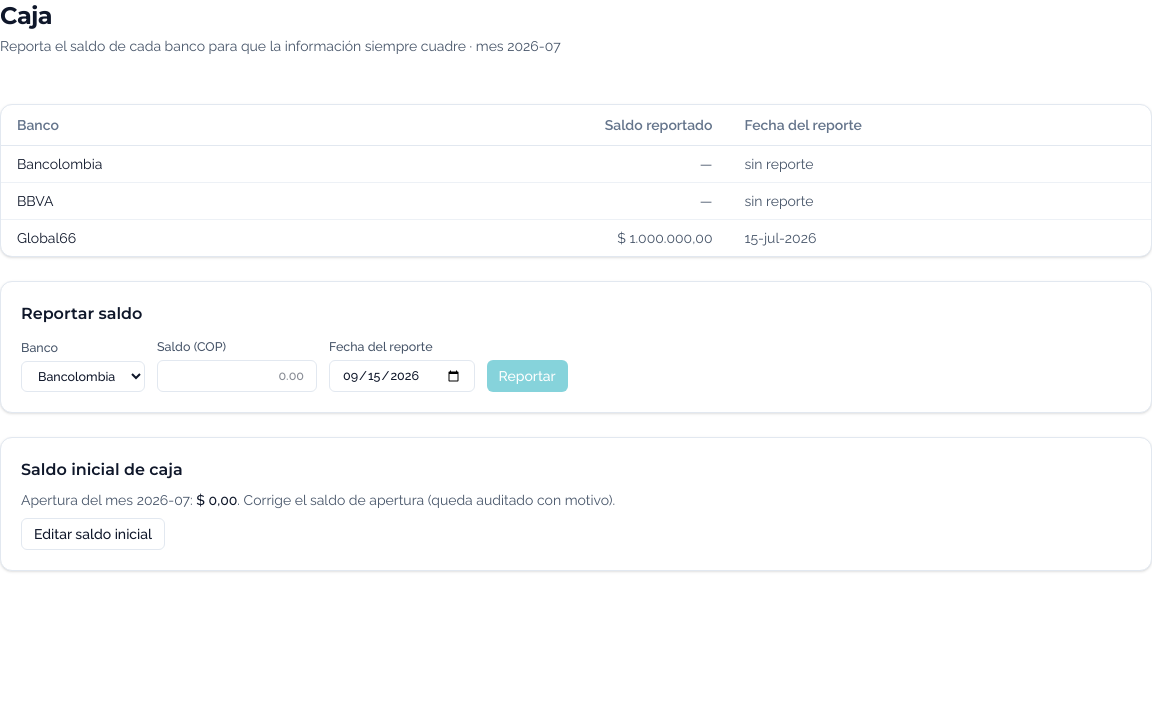
Test: CajaPage — FIX-F: editar saldo inicial (ciclo:config) › admin abre el diálogo y guarda con mes/saldo/motivo
Click the button "Editar saldo inicial" at [93, 534], box x1=21 y1=518 x2=165 y2=550
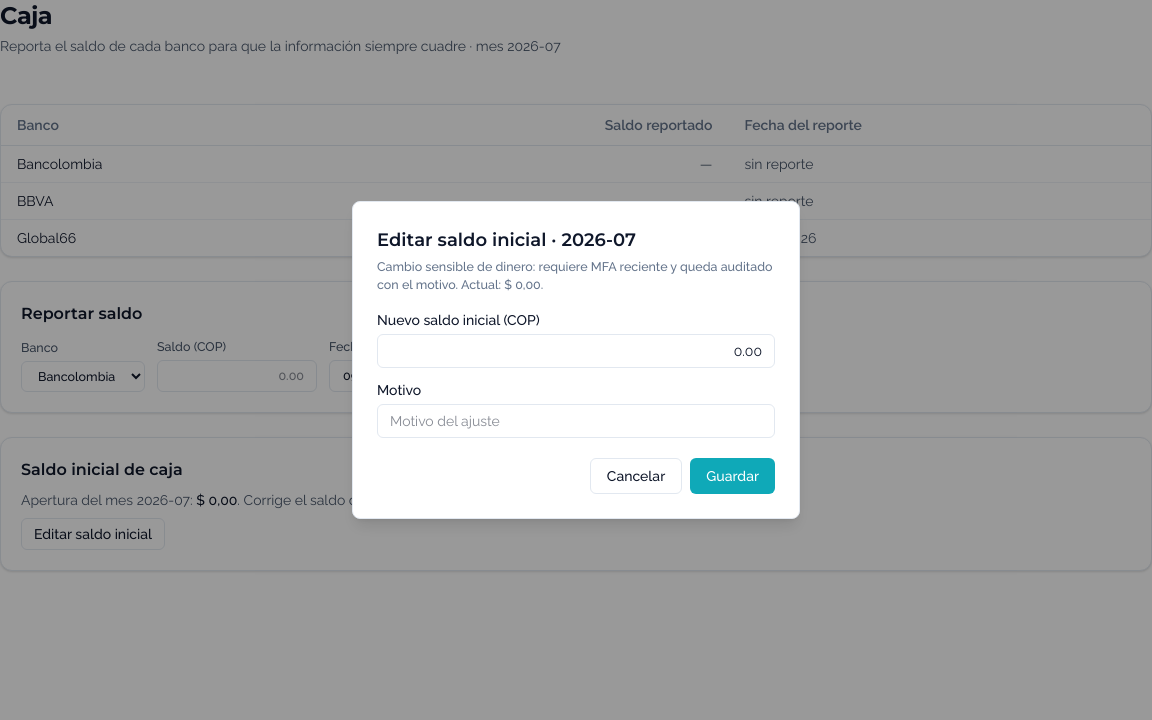
Replace the text in the field labelled "Nuevo saldo inicial (COP)" with "5000000" at [576, 351], box x1=377 y1=334 x2=775 y2=368
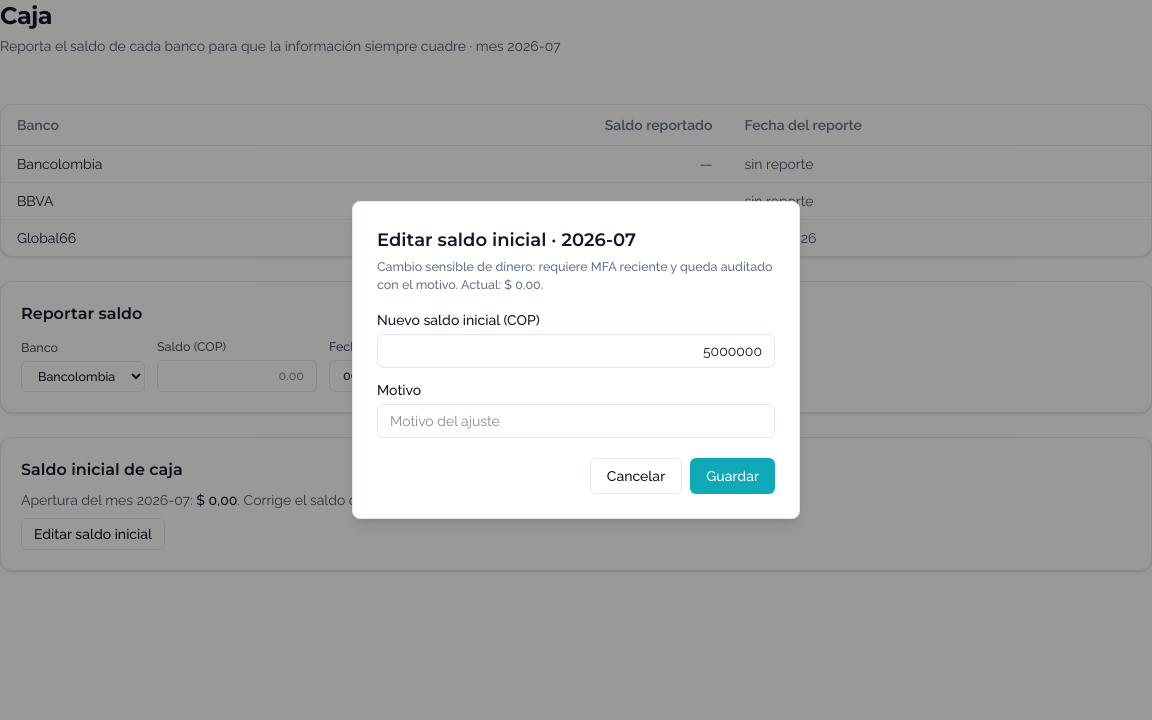
Type "corrección de apertura" into the field labelled "Motivo" at [576, 421], box x1=377 y1=404 x2=775 y2=438
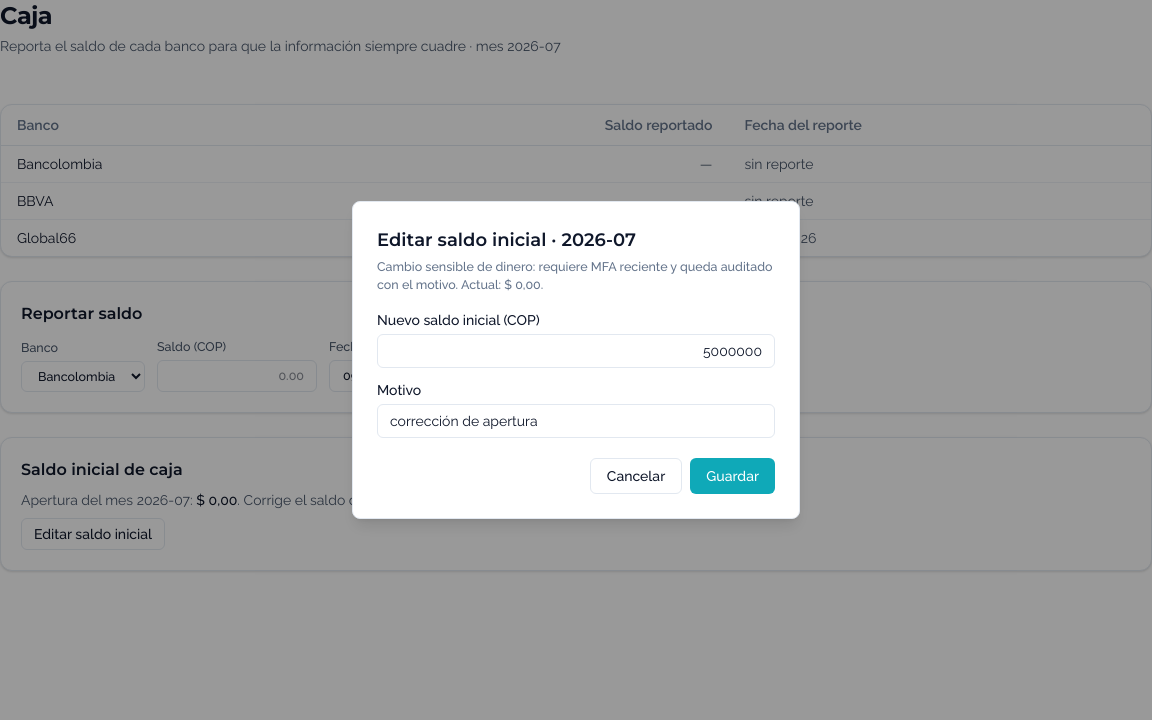
Click the button "Guardar" at [733, 476], box x1=690 y1=458 x2=775 y2=494
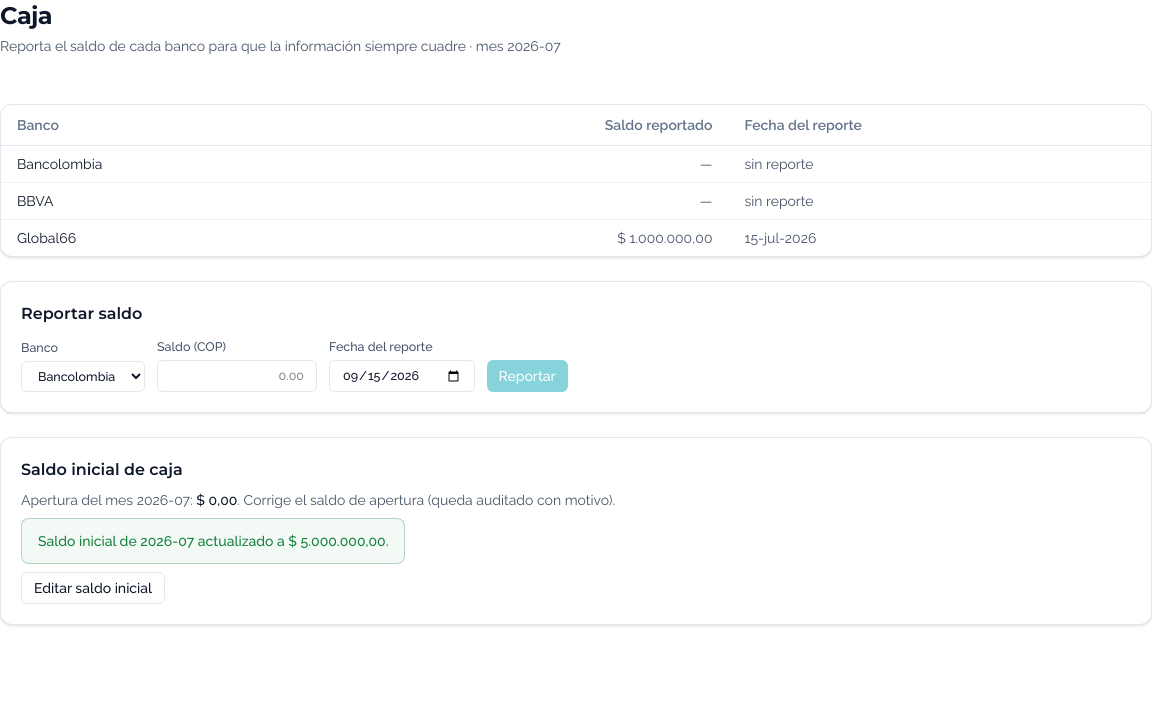
Expected: the text "Saldo inicial de 2026-07 actualizado a $ 5.000.000,00." is shown, x1=21 y1=518 x2=406 y2=564
